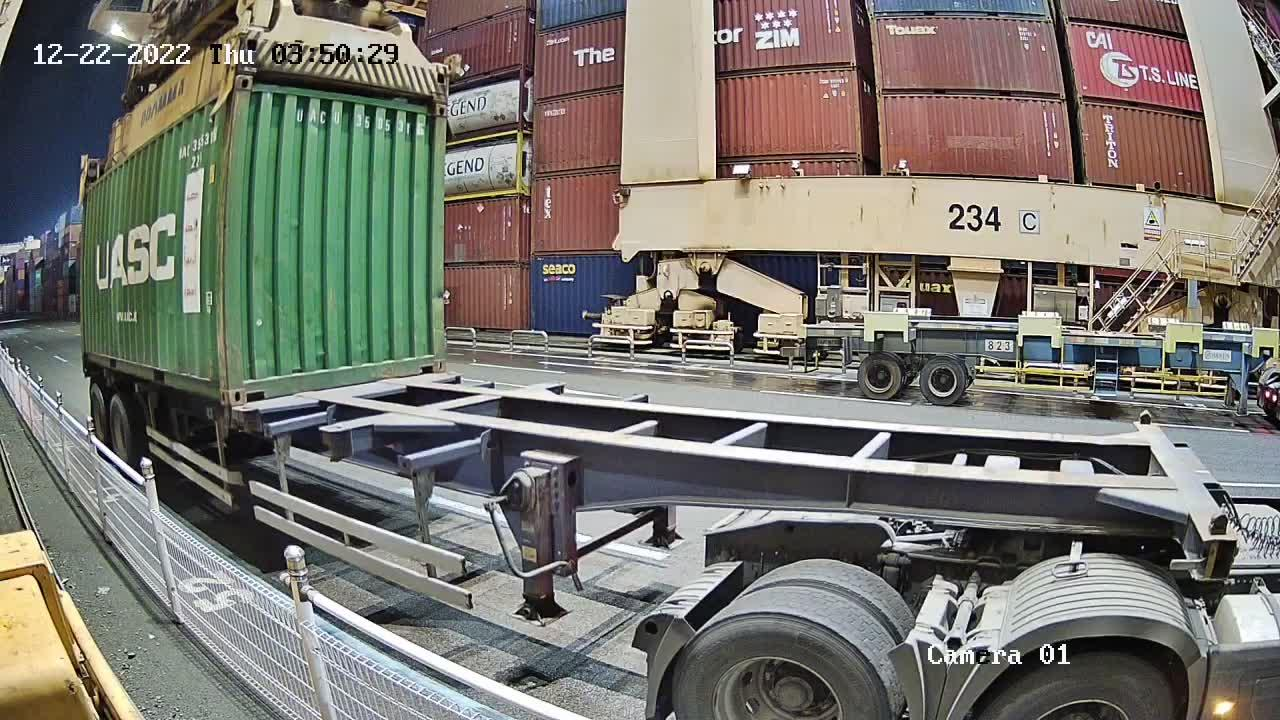Chassis: (239, 372, 460, 423)
Cone: (237, 407, 253, 432)
Hole_L: (230, 369, 265, 406)
Hole_R: (205, 371, 231, 406), (418, 345, 446, 374)
Tire: (110, 395, 135, 465), (90, 388, 108, 449)
